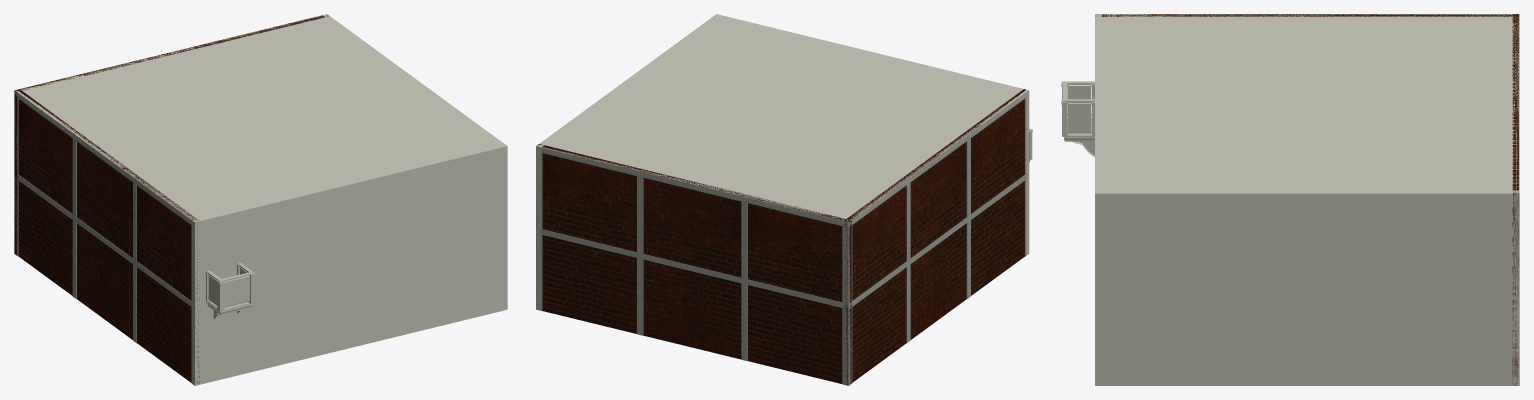
Rendered from building.glb.
3 views of the same model, side by side, from view 1: azimuth 30°, elevation 25°; view 2: azimuth 150°, elevation 25°; view 3: azimuth 270°, elevation 25° (orthographic). The views are drawn at different scales.
Visible parts, largest first — view 1: roof/house:0/roof_slab#0001, house:0/edge0/z0/house:0/edge0/z0/wall_0_0, house:0/edge3/z0/house:0/edge3/z0/wall_0_0, house:0/edge2/z0/house:0/edge2/z0/wall_0_0, house:0/edge1/z0/house:0/edge1/z0/wall_0_0, house:0/edge3/z0/house:0/edge3/z0/beam_0_0, house:0/edge3/z0/house:0/edge3/z0/beam_1_0, balcony/sample/balcony_panel#0002; view 2: roof/house:0/roof_slab#0001, house:0/edge2/z0/house:0/edge2/z0/wall_0_0, house:0/edge3/z0/house:0/edge3/z0/wall_0_0, house:0/edge2/z0/house:0/edge2/z0/beam_0_0, house:0/edge1/z0/house:0/edge1/z0/wall_0_0, house:0/edge2/z0/house:0/edge2/z0/beam_1_0, house:0/edge0/z0/house:0/edge0/z0/wall_0_0, house:0/edge3/z0/house:0/edge3/z0/beam_0_0, house:0/edge3/z0/house:0/edge3/z0/beam_1_0, house:0/edge2/z0/house:0/edge2/z0/column_1_1, house:0/edge2/z0/house:0/edge2/z0/column_2_0, house:0/edge2/z0/house:0/edge2/z0/column_2_1 (+3 smaller); view 3: house:0/edge1/z0/house:0/edge1/z0/wall_0_0, roof/house:0/roof_slab#0001, house:0/edge0/z0/house:0/edge0/z0/wall_0_0, house:0/edge2/z0/house:0/edge2/z0/wall_0_0, house:0/edge3/z0/house:0/edge3/z0/wall_0_0, balcony/sample/balcony_panel#0003.
Boxes of the visible parts, bbox=[...] form: roof/house:0/roof_slab#0001: bbox=[14, 16, 507, 224]; house:0/edge0/z0/house:0/edge0/z0/wall_0_0: bbox=[192, 144, 507, 385]; house:0/edge3/z0/house:0/edge3/z0/wall_0_0: bbox=[18, 89, 199, 383]; house:0/edge2/z0/house:0/edge2/z0/wall_0_0: bbox=[14, 15, 328, 255]; house:0/edge1/z0/house:0/edge1/z0/wall_0_0: bbox=[322, 14, 507, 310]; house:0/edge3/z0/house:0/edge3/z0/beam_0_0: bbox=[14, 172, 194, 309]; house:0/edge3/z0/house:0/edge3/z0/beam_1_0: bbox=[14, 90, 194, 225]; balcony/sample/balcony_panel#0002: bbox=[224, 276, 249, 307]; roof/house:0/roof_slab#0001: bbox=[536, 14, 1028, 225]; house:0/edge2/z0/house:0/edge2/z0/wall_0_0: bbox=[537, 144, 851, 384]; house:0/edge3/z0/house:0/edge3/z0/wall_0_0: bbox=[843, 89, 1025, 385]; house:0/edge2/z0/house:0/edge2/z0/beam_0_0: bbox=[536, 228, 848, 309]; house:0/edge1/z0/house:0/edge1/z0/wall_0_0: bbox=[536, 15, 720, 310]; house:0/edge2/z0/house:0/edge2/z0/beam_1_0: bbox=[536, 146, 848, 227]; house:0/edge0/z0/house:0/edge0/z0/wall_0_0: bbox=[714, 14, 1029, 255]; house:0/edge3/z0/house:0/edge3/z0/beam_0_0: bbox=[848, 173, 1028, 309]; house:0/edge3/z0/house:0/edge3/z0/beam_1_0: bbox=[848, 90, 1028, 227]; house:0/edge2/z0/house:0/edge2/z0/column_1_1: bbox=[842, 226, 848, 303]; house:0/edge2/z0/house:0/edge2/z0/column_2_0: bbox=[637, 176, 643, 253]; house:0/edge2/z0/house:0/edge2/z0/column_2_1: bbox=[637, 258, 643, 335]; house:0/edge1/z0/house:0/edge1/z0/wall_0_0: bbox=[1095, 190, 1519, 385]; roof/house:0/roof_slab#0001: bbox=[1095, 14, 1519, 197]; house:0/edge0/z0/house:0/edge0/z0/wall_0_0: bbox=[1095, 14, 1101, 385]; house:0/edge2/z0/house:0/edge2/z0/wall_0_0: bbox=[1512, 14, 1518, 385]; house:0/edge3/z0/house:0/edge3/z0/wall_0_0: bbox=[1095, 14, 1512, 16]; balcony/sample/balcony_panel#0003: bbox=[1068, 103, 1091, 132].
Size of the model in its own units: 12 by 6 by 12.95.
Materials: 3 (1 with a texture image).
